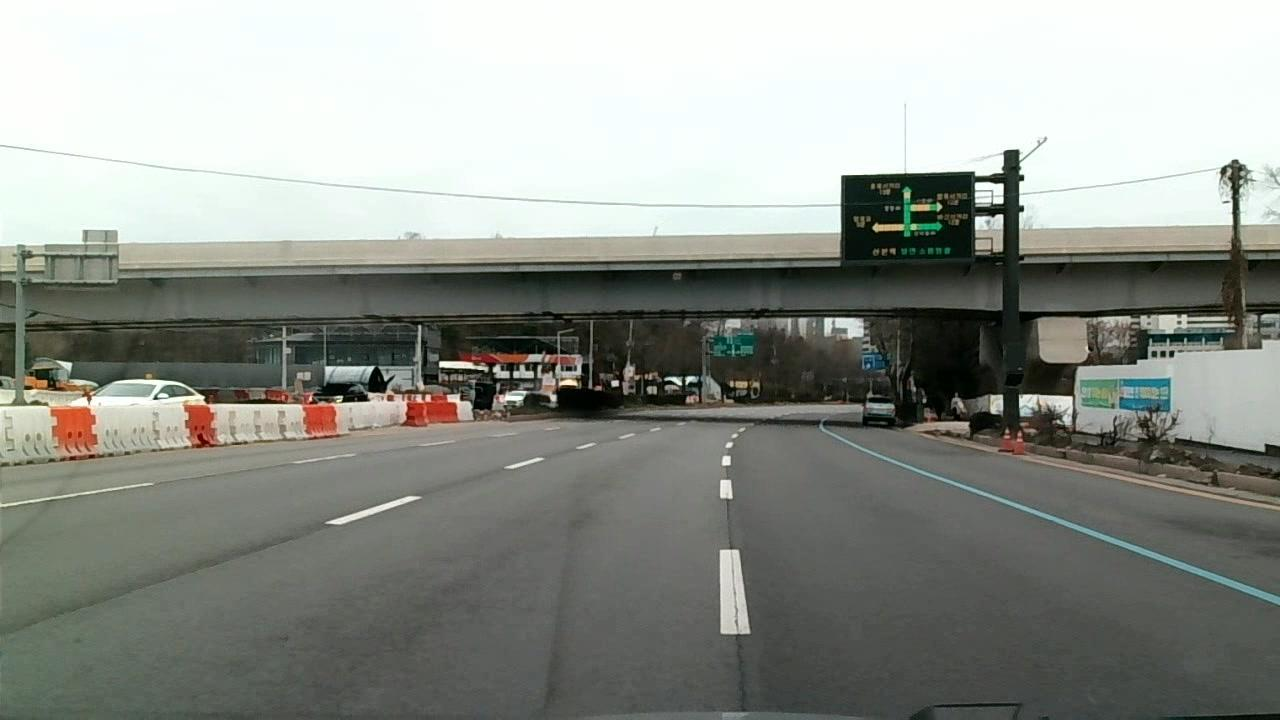vcrack: (727, 577, 751, 718), (724, 499, 735, 575), (724, 465, 729, 479)
